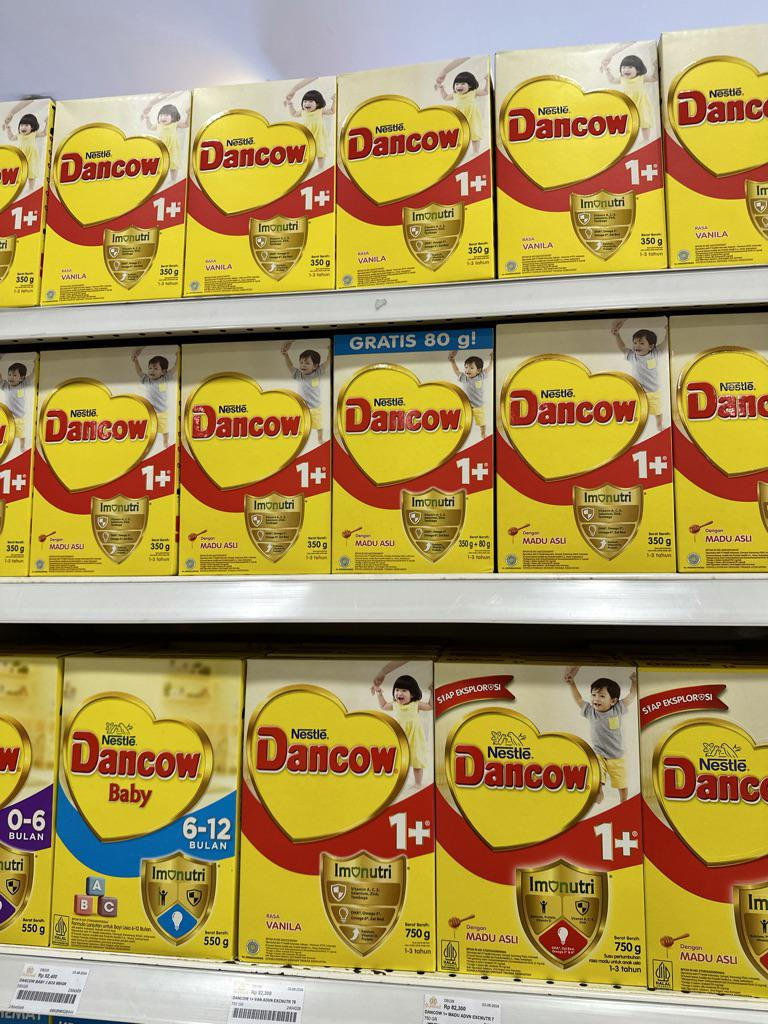DANCOW 1+ Madu Advn ExcNutr 12x800g ID_REDESIGN3: (435, 661, 646, 987)
DANCOW 1+ Madu Advn ExcNutr 24x400g N1 ID_REDESIGN3: (496, 318, 677, 574), (177, 339, 332, 575), (32, 347, 179, 575)
DANCOW 1+ Van Advn ExcNutr 12x800g N1 ID_REDESIGN3: (240, 656, 436, 971)
DANCOW 1+ Van Advn ExcNutr 24x400g ID_REDESIGN3: (495, 42, 669, 275), (335, 62, 495, 284), (186, 79, 337, 290), (43, 96, 187, 302)
